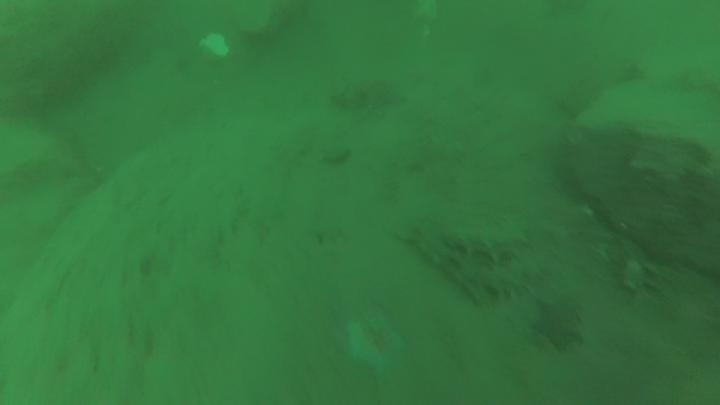holothurian: (400, 211, 533, 266), (419, 254, 527, 303)
starfish: (338, 308, 411, 383), (527, 294, 587, 354), (328, 75, 409, 114)
